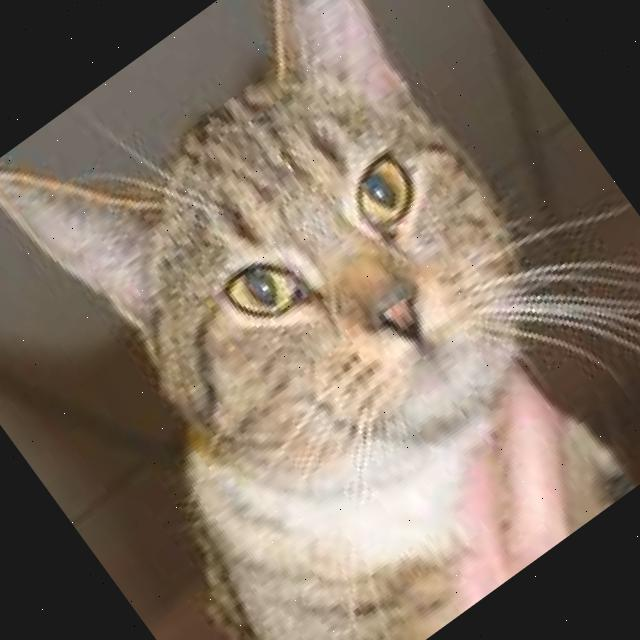cat-eye-normal: (324, 130, 446, 252), (204, 230, 324, 346)
